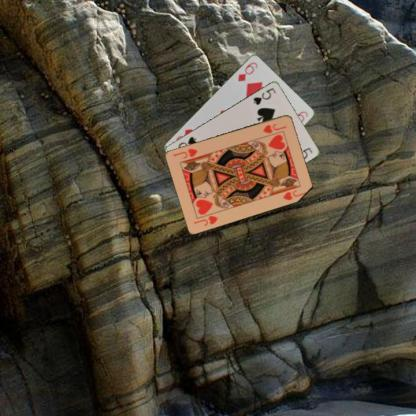5s: (251, 85, 277, 106)
6d: (235, 60, 259, 82)
Jh: (191, 213, 220, 227), (260, 121, 288, 134)
